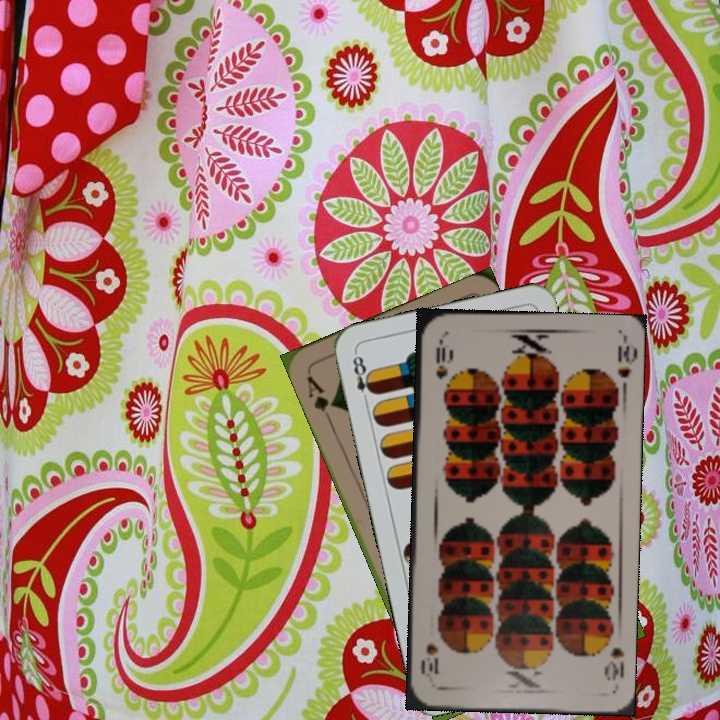E8: (348, 348, 378, 407)
GA: (302, 372, 338, 426)
S10: (600, 643, 627, 683), (431, 334, 450, 381)
